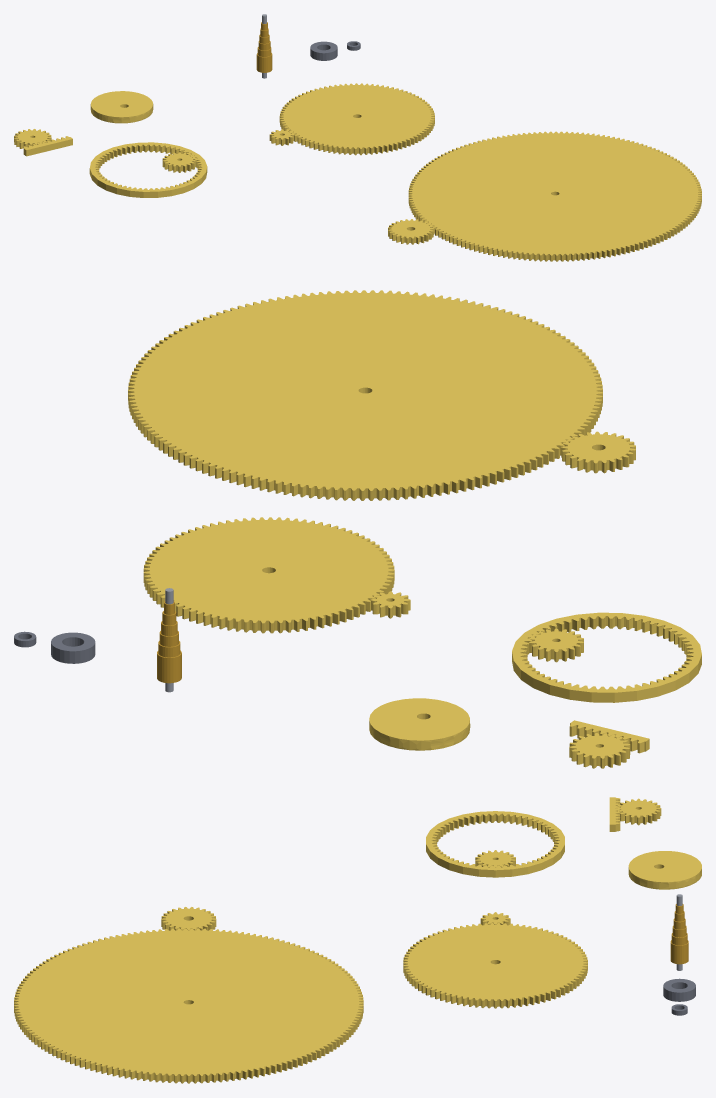
Rendered from cad_lib_samples.dae.
The picture shows the model from 3 angles, top to bottom: view 1: azimuth 30°, elevation 25°; view 2: azimuth 150°, elevation 25°; view 3: azimuth 270°, elevation 25°; orthographic projection. The views are drawn at different scales.
Parts seen in each view (by area): view 1: wheel_169, wheel_89, ring_60_internal, cam_eccentric, pinion_25, pinion_18_in_ring, pinion_20_on_rack, rack_10, bearing_688ZZ; view 2: wheel_169, wheel_89, ring_60_internal, cam_eccentric, pinion_25, pinion_20_on_rack, pinion_18_in_ring, bearing_688ZZ, rack_10, pinion_12_shifted; view 3: wheel_169, wheel_89, ring_60_internal, cam_eccentric, pinion_25, pinion_20_on_rack, bearing_688ZZ, pinion_18_in_ring.
Boxes of the visible parts, box(x1,y1,x2,y2) form: wheel_169: box(408, 131, 701, 261); wheel_89: box(279, 83, 434, 155); ring_60_internal: box(89, 142, 207, 197); cam_eccentric: box(90, 91, 153, 123); pinion_25: box(388, 219, 434, 244); pinion_18_in_ring: box(162, 152, 196, 172); pinion_20_on_rack: box(14, 129, 51, 148); rack_10: box(23, 136, 72, 156); bearing_688ZZ: box(310, 41, 337, 60); wheel_169: box(128, 290, 602, 500); wheel_89: box(143, 517, 394, 633); ring_60_internal: box(512, 612, 701, 702); cam_eccentric: box(369, 698, 470, 750); pinion_25: box(561, 431, 635, 473); pinion_20_on_rack: box(569, 733, 630, 768); pinion_18_in_ring: box(529, 628, 583, 662); bearing_688ZZ: box(51, 632, 95, 663); rack_10: box(569, 720, 649, 753); pinion_12_shifted: box(370, 591, 410, 618); wheel_169: box(14, 928, 363, 1083); wheel_89: box(403, 923, 587, 1008); ring_60_internal: box(426, 811, 564, 877); cam_eccentric: box(628, 851, 701, 889); pinion_25: box(161, 907, 216, 930); pinion_20_on_rack: box(616, 798, 661, 825); bearing_688ZZ: box(663, 978, 695, 1001); pinion_18_in_ring: box(475, 850, 515, 867).
Size of the model in its own units: 322 by 336 by 40.
